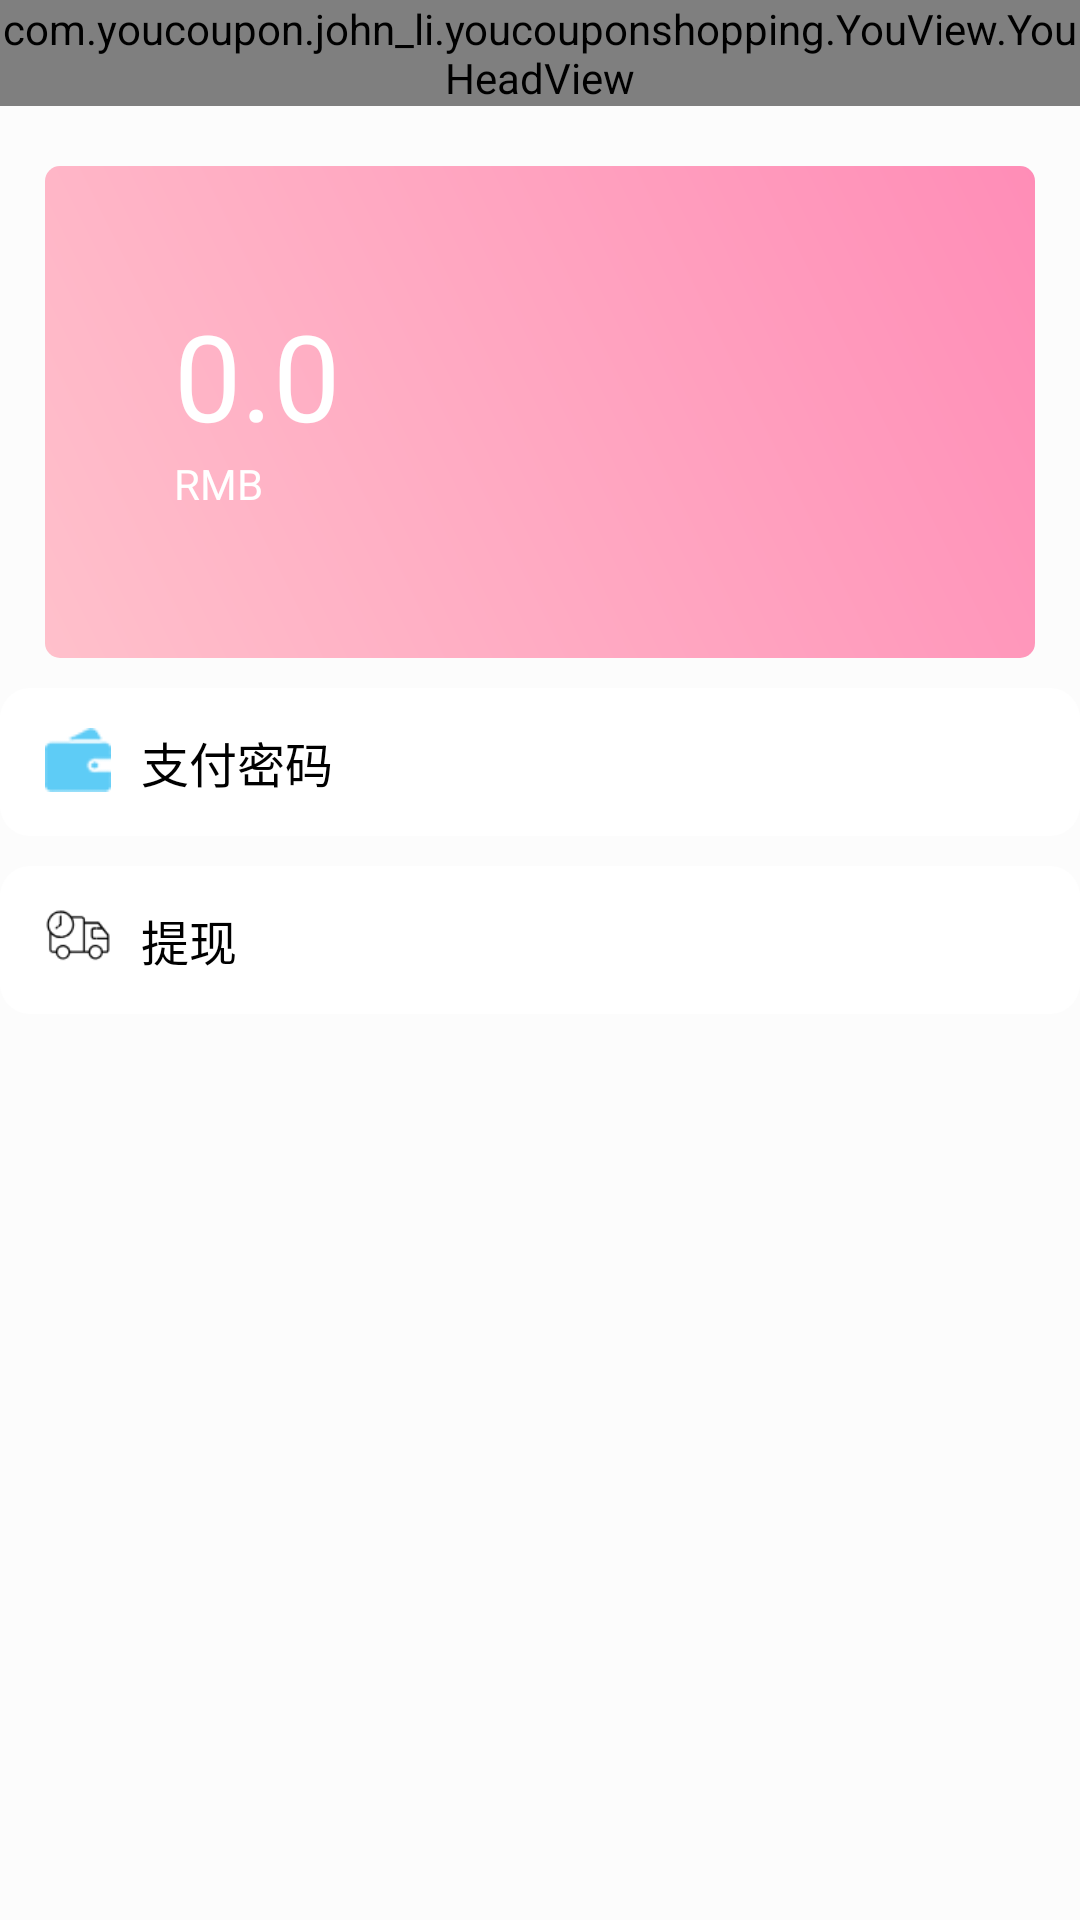

Icon click points for this 1080w x 1920h phone screenshot, format [x,y]:
mine wait for receiving: [78,935]
wallet: [78,760]
